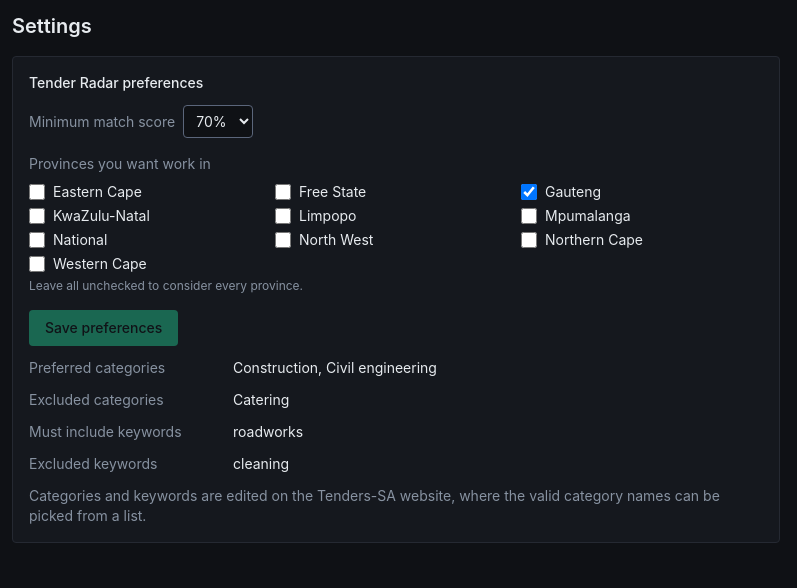
Scenario: Settings — preference saving › reports a save failure rather than claiming success
Expected: the heading "Tender Radar preferences" is shown, top-left (29, 73), bottom-right (203, 93)
Select "90%" in the dropdown labelled "Minimum match score" at coordinates (218, 122), box top-left (183, 105), bottom-right (253, 138)
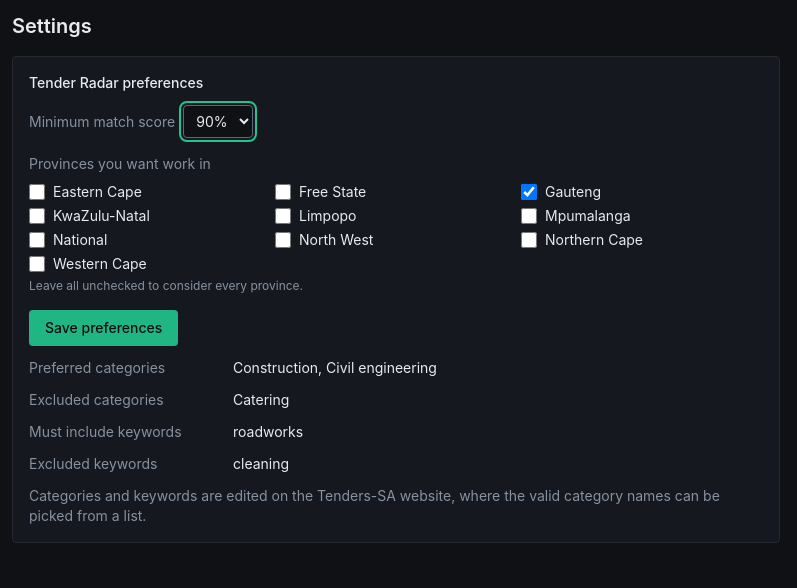
Click the button "Save preferences" at coordinates (104, 328), box top-left (29, 310), bottom-right (178, 346)
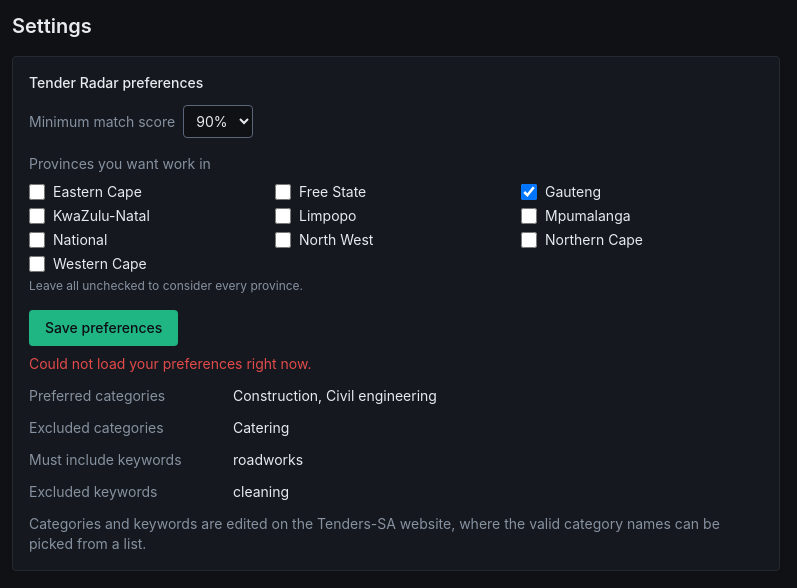
Now the message "Could not load your preferences right now." is shown, box top-left (29, 355), bottom-right (312, 372)
